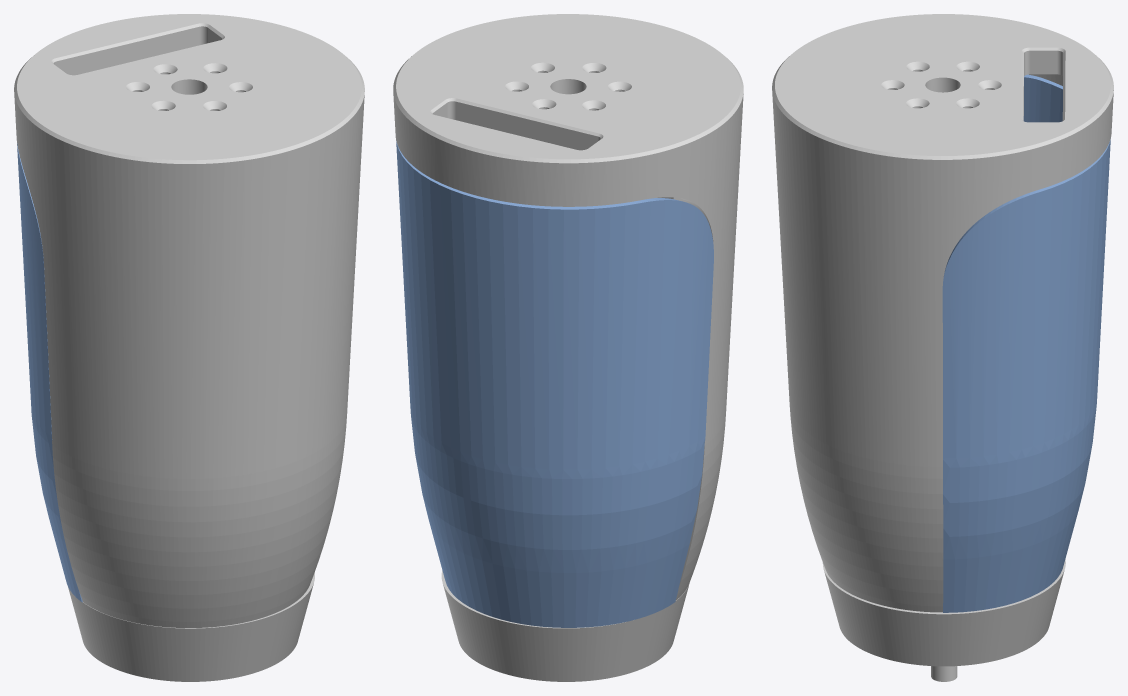
File: antebrazo_mano_izq.dae
The picture shows the model from 3 angles, left to right: view 1: azimuth 30°, elevation 25°; view 2: azimuth 150°, elevation 25°; view 3: azimuth 270°, elevation 25°; orthographic projection. The views are drawn at different scales.
Visible parts, largest first — view 1: Forarm-9-2-1, Forarm-9-3-2, Forarm-9-2-Cover-1; view 2: Forarm-9-2-Cover-1, Forarm-9-2-1, Forarm-9-3-2; view 3: Forarm-9-2-1, Forarm-9-2-Cover-1, Forarm-9-3-2.
Boxes of the visible parts, x1=… form: Forarm-9-2-1: x1=14, y1=14, x2=364, y2=627; Forarm-9-3-2: x1=68, y1=572, x2=314, y2=681; Forarm-9-2-Cover-1: x1=17, y1=143, x2=82, y2=602; Forarm-9-2-Cover-1: x1=396, y1=140, x2=713, y2=627; Forarm-9-2-1: x1=393, y1=14, x2=743, y2=599; Forarm-9-3-2: x1=441, y1=570, x2=689, y2=681; Forarm-9-2-1: x1=772, y1=14, x2=1113, y2=612; Forarm-9-2-Cover-1: x1=942, y1=74, x2=1110, y2=612; Forarm-9-3-2: x1=822, y1=559, x2=1065, y2=681.
Bounding box in the file's own units: 0.0873 × 0.0873 × 0.1581.
